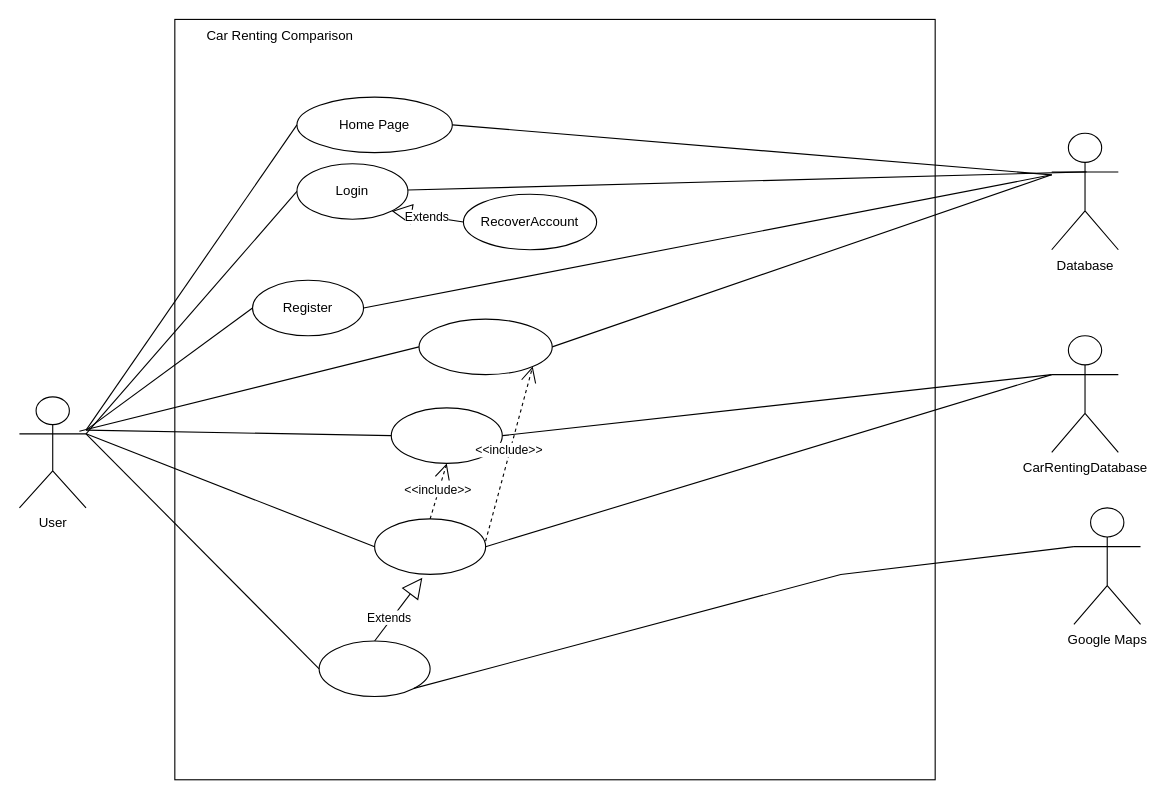
Image size: 1167x799. Some labels were removed from this diagram. The shapes that lost their labels are listed below. From the top down, each one's centre as x and y in pixels, then its label:
At (485,346): "SaveLocations".
At (446,435): "ComparePrice".
At (430,546): "Search".
At (374,668): "Maps".
